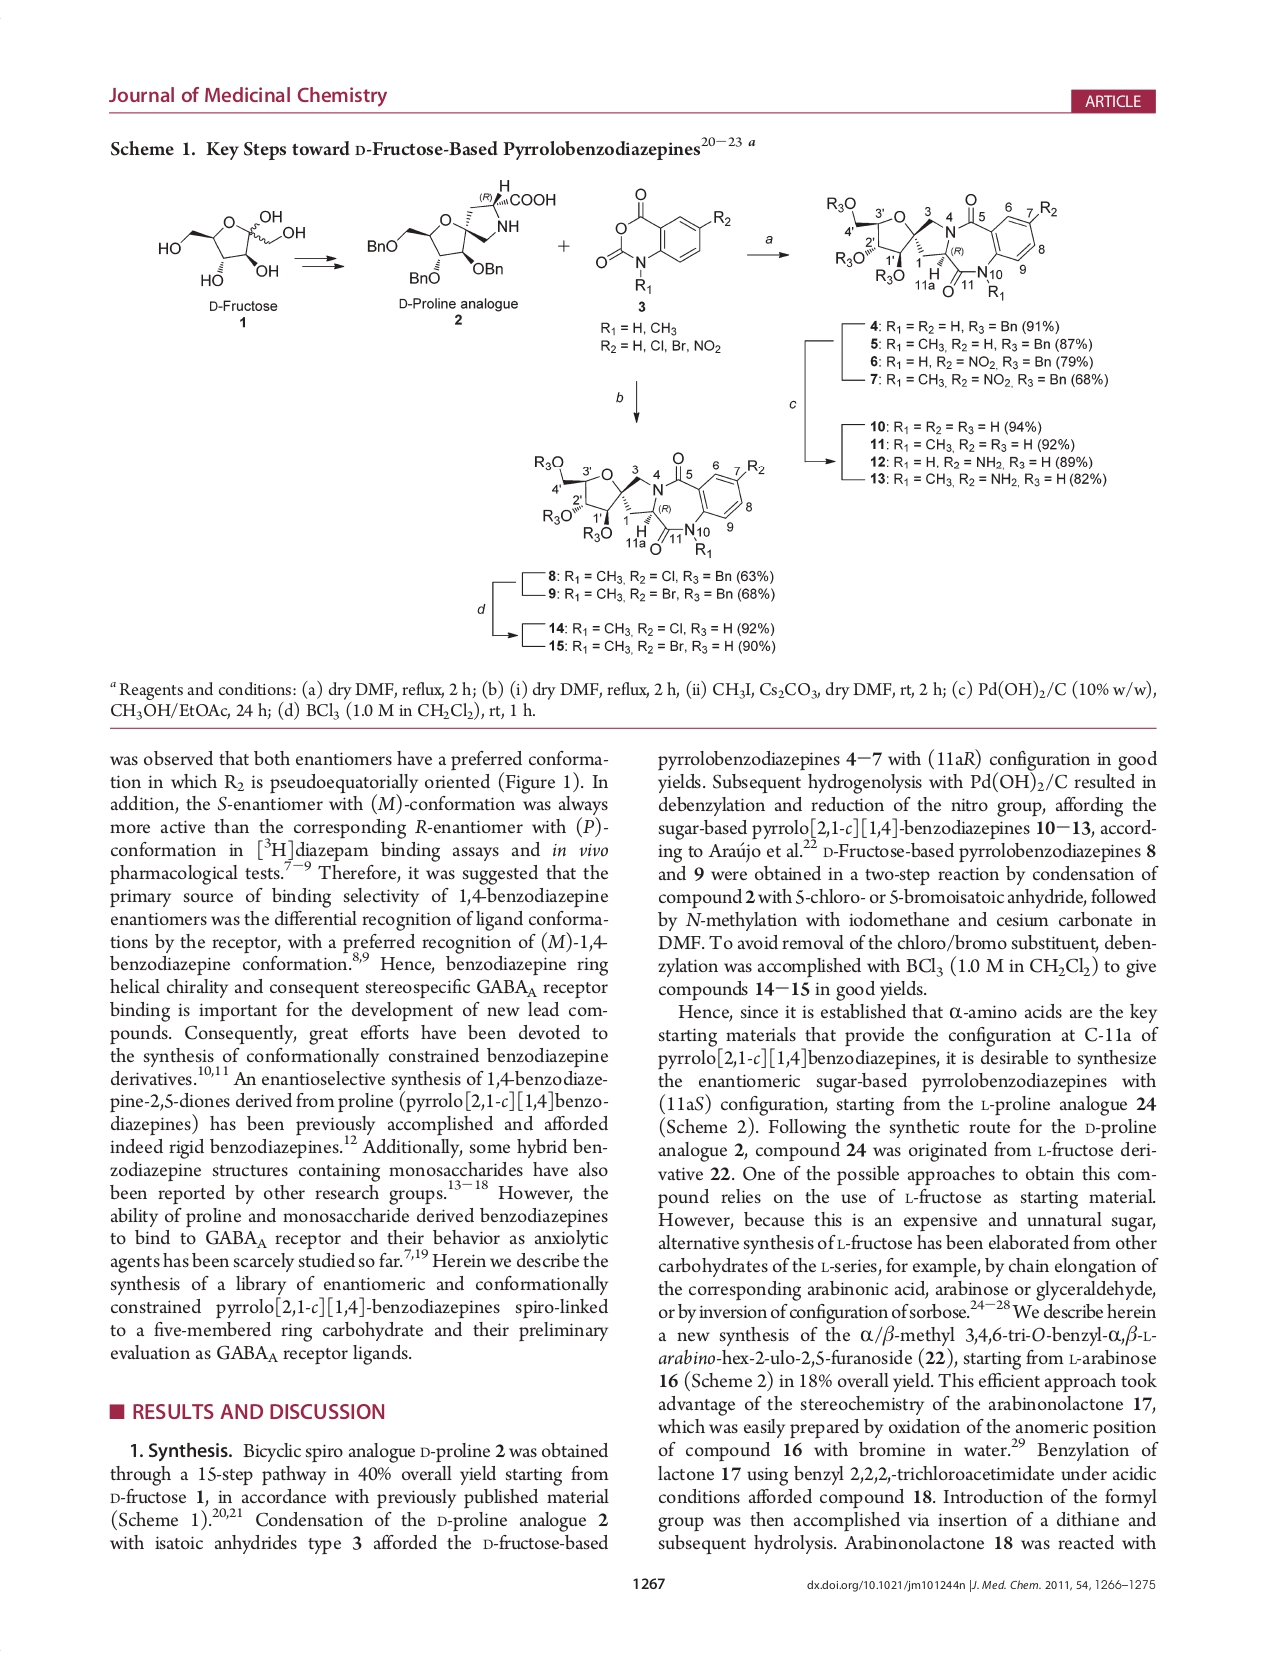exist_molecular: (823, 192, 1059, 299), (531, 451, 765, 555), (364, 174, 559, 289), (589, 180, 735, 294), (154, 206, 307, 287)
